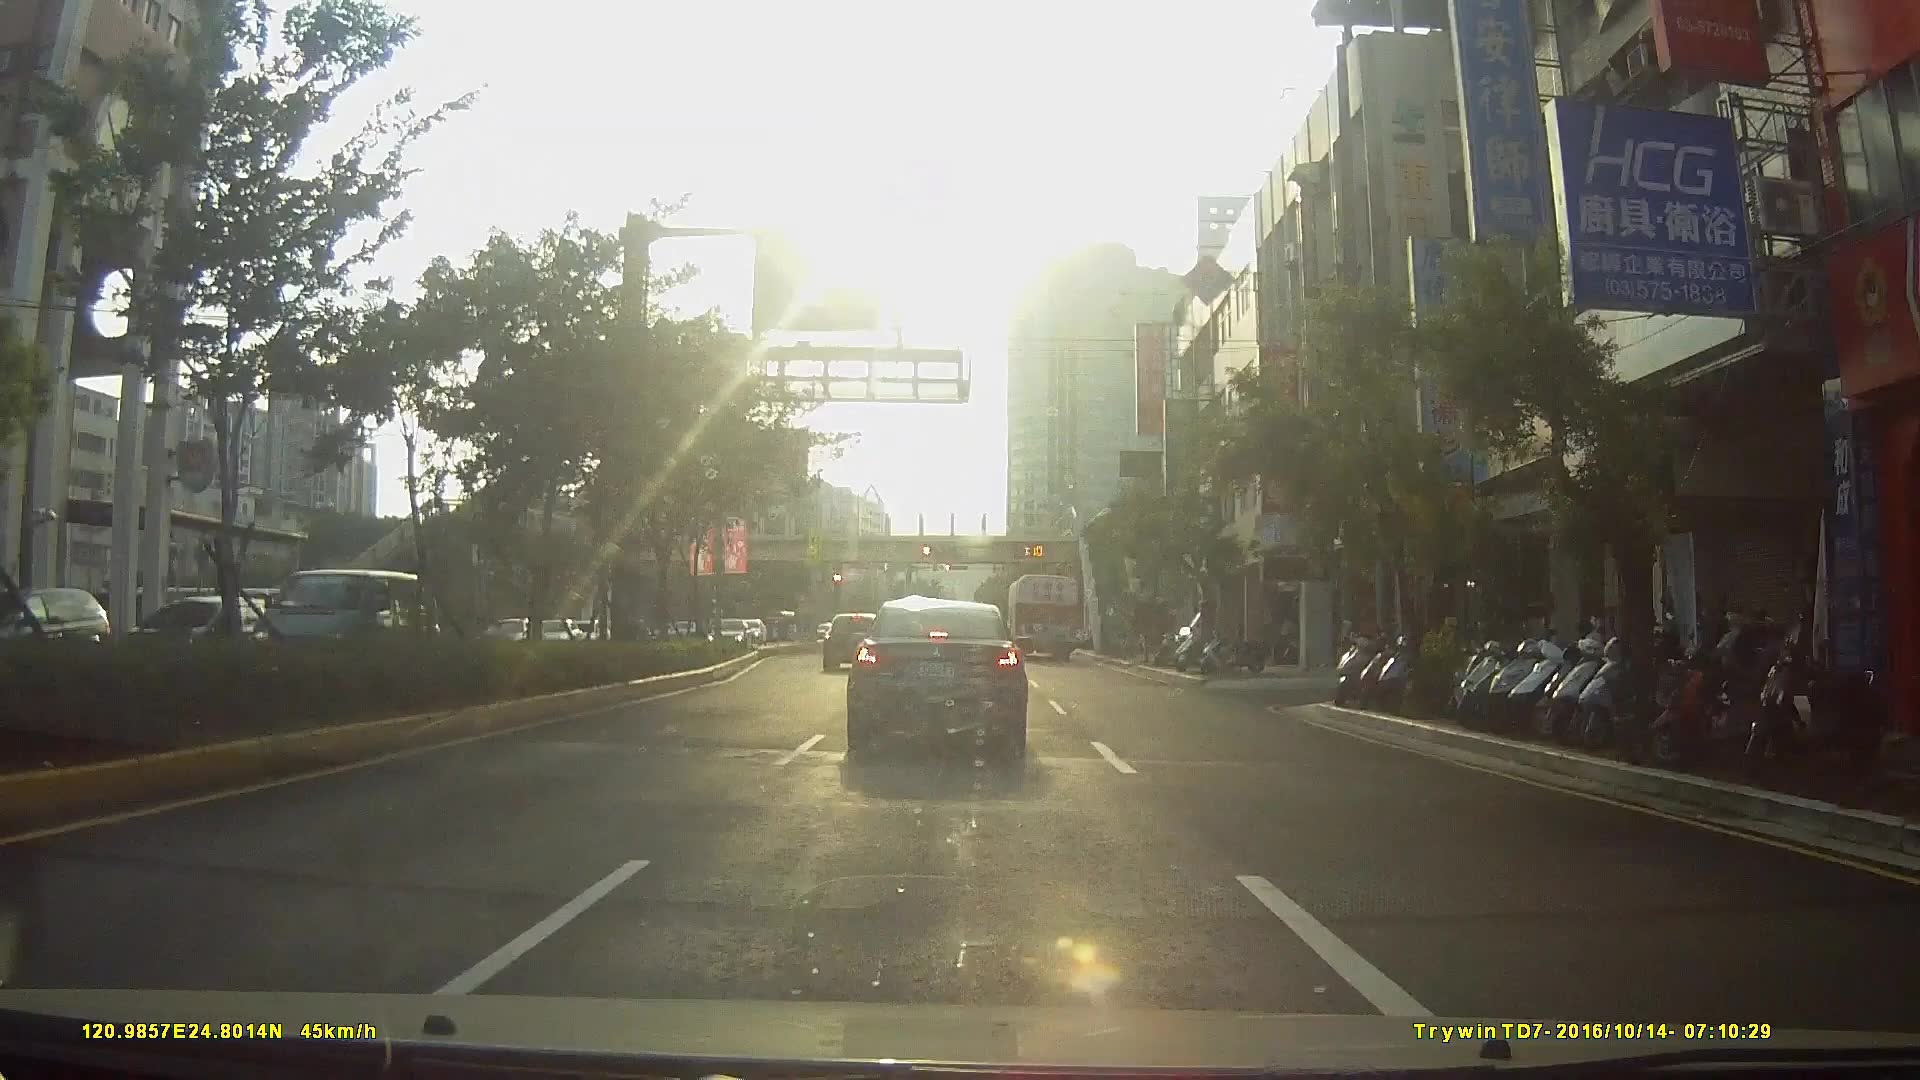vehicle: (844, 593, 1029, 757), (255, 566, 448, 680), (1, 583, 105, 665), (1005, 570, 1083, 662), (818, 611, 884, 675), (703, 617, 752, 655)
